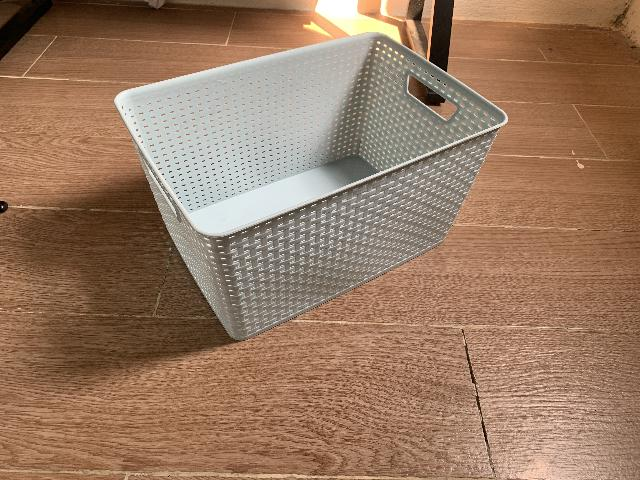cart: (113, 33, 508, 342)
